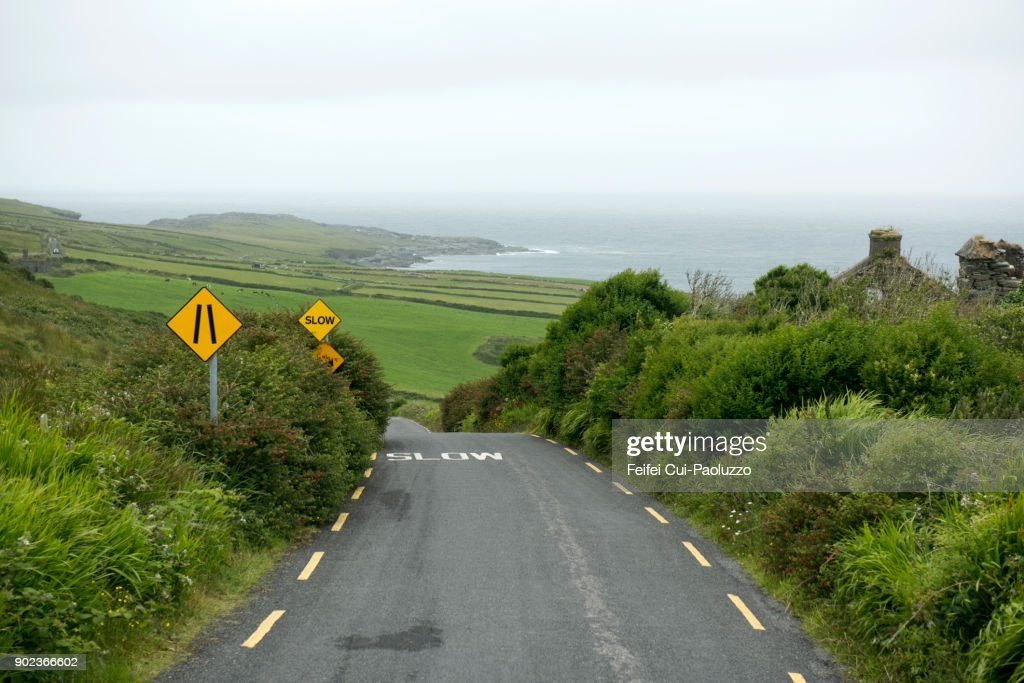narrow-road: (165, 287, 246, 360)
